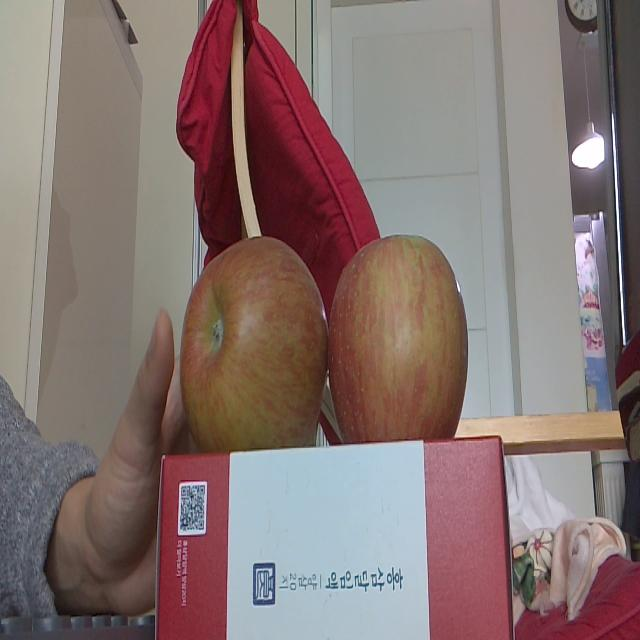apple: (179, 234, 327, 450), (331, 243, 471, 448)
